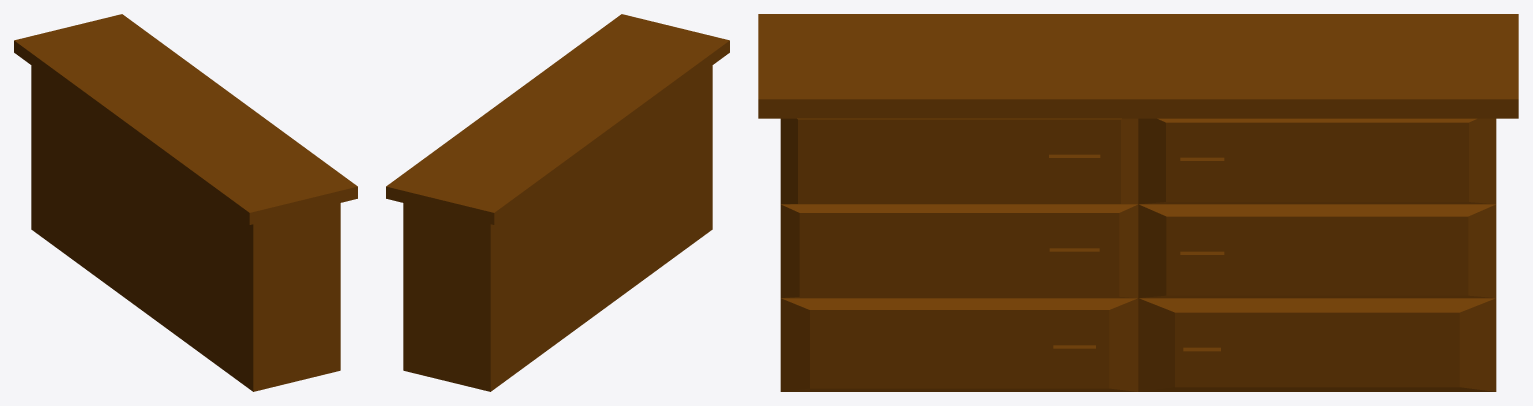
The model's file is commode.fbx.
3 renders of one model, left to right at view 1: azimuth 30°, elevation 25°; view 2: azimuth 150°, elevation 25°; view 3: azimuth 270°, elevation 25°, orthographic. The views are drawn at different scales.
Visible parts, largest first — view 1: Cube; view 2: Cube; view 3: Cube.
Boxes of the visible parts, x1,y1,x2,y2 form: Cube: (14, 14, 357, 391); Cube: (386, 14, 729, 391); Cube: (758, 14, 1518, 391).
Bounding box in the file's own units: 394 × 649 × 1486.
